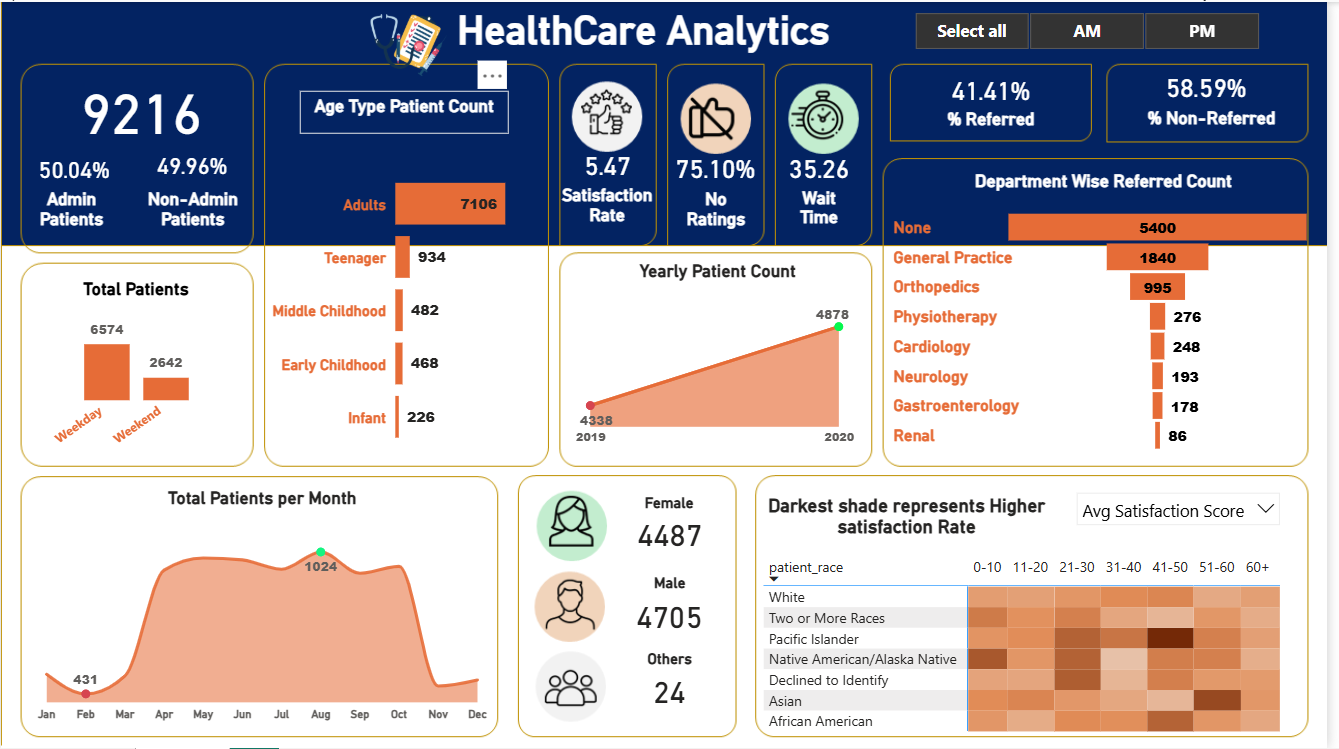

This screenshot's page, from the dashboard's own definition file:
{"tool":"powerbi","page":{"name":"Page 1","canvas":[1280,720],"ordinal":0},"visuals":[{"type":"card","fields":{"Values":["Measures (2).Avg Satisfaction Score"]},"box":[538.1,130.3,94.1,55.5],"z":0},{"type":"card","fields":{"Values":["Measures (2).Average Waiting Time"]},"box":[745.6,137.5,88.1,47.1],"z":1000},{"type":"card","fields":{"Values":["Measures (2).Total Patients"]},"box":[63.9,60.3,143.6,83.2],"z":2000},{"type":"card","fields":{"Values":["Measures (2).% Non Administration"]},"box":[141.2,142.4,86.9,32.6],"z":3000},{"type":"card","fields":{"Values":["Measures (2).% Administration"]},"box":[19.3,146,102.5,32.6],"z":4000},{"type":"card","fields":{"Values":["Measures (2).Male Count"]},"box":[594.8,564.6,101.3,55.5],"z":5000},{"type":"card","fields":{"Values":["Measures (2).Female Count"]},"box":[588.7,491,113.4,44.6],"z":6000},{"type":"card","fields":{"Values":["Measures (2).Others Count"]},"box":[592.4,641.8,106.2,45.8],"z":7000},{"type":"card","fields":{"Values":["Measures (2).% Reffered"]},"box":[902.4,66.4,106.2,37.4],"z":8000},{"type":"card","fields":{"Values":["Measures (2).% Non Reffered"]},"box":[1100.3,61.5,125.5,42.2],"z":9000},{"type":"card","fields":{"Values":["Measures (2).% No Ratings"]},"box":[624.3,136.3,129.1,49.5],"z":10000},{"type":"slicer","fields":{"Values":["Parameter.Parameter"]},"box":[1028.4,463.5,216.4,56.3],"z":11000},{"type":"pivotTable","fields":{"Values":["Measures (2).Avg Satisfaction Score"],"Rows":["Patients.patient_race"],"Columns":["Patients.Age Group"]},"box":[731.1,529.6,539.3,190.6],"z":12000},{"type":"barChart","fields":{"Y":["Measures (2).Total Patients"],"Category":["Patients.Age Type"]},"box":[255.8,141.2,272.7,306.4],"z":13000},{"type":"funnel","fields":{"Category":["Patients.department_referral"],"Y":["Measures (2).Total Patients"]},"box":[856.6,196.6,413.8,242.5],"z":14000},{"type":"slicer","fields":{"Values":["Patients.am-pm"]},"box":[856.6,3.6,381.2,48.3],"z":15000},{"type":"areaChart","title":"Total Patients Visits","fields":{"Category":["Date.Month"],"Y":["Measures (2).Total Patients","Measures (2).format min_max (month)"]},"box":[24.1,499.5,456,202.7],"z":16000},{"type":"lineChart","title":"Total Patients Visits by Year","fields":{"Category":["Date.Year"],"Y":["Measures (2).Total Patients","Measures (2).format min_max (year)"]},"box":[548.9,282.3,279.9,156.8],"z":17000},{"type":"clusteredColumnChart","title":"Total Patients ","fields":{"Y":["Measures (2).Total Patients"],"Category":["Date.WeekType"]},"box":[24.1,294.4,216,153.2],"z":18000},{"type":"card","fields":{"Values":["Measures (2).caption"]},"box":[720.2,463.5,308.2,66],"z":19000},{"type":"textbox","box":[14.5,174.9,107.4,59.1],"z":20000},{"type":"textbox","box":[130.3,174.9,109.8,72.4],"z":21000},{"type":"textbox","box":[60.3,261.8,139.9,41],"z":22000},{"type":"textbox","box":[114.6,463.3,275.1,41],"z":23000},{"type":"textbox","box":[600.8,244.9,177.3,49.5],"z":24000},{"type":"textbox","box":[533.2,171.3,103.8,62.7],"z":25000},{"type":"textbox","box":[288.3,85.7,201.5,41],"z":26000},{"type":"textbox","box":[647.9,174.9,84.5,49.5],"z":27000},{"type":"textbox","box":[750.4,173.7,78.4,60.3],"z":28000},{"type":"textbox","box":[891.6,97.7,127.9,41],"z":29000},{"type":"textbox","box":[1093,96.5,150.8,42.2],"z":30000},{"type":"textbox","box":[925.3,158,277.5,38.6],"z":31000},{"type":"textbox","box":[610.5,469.3,68.8,30.2],"z":32000},{"type":"textbox","box":[617.7,546.5,55.5,36.2],"z":33000},{"type":"textbox","box":[603.2,620.1,84.5,30.2],"z":34000},{"type":"textbox","box":[435.4,0,409.2,54.8],"z":35000},{"type":"image","box":[351.1,0,84.5,83.2],"z":36000}]}

Visuals, with their boxes in screenshot pixels (x1, y1, x2, y2), scaled from the page's 1280x720 canvas onto the 1339x749 screenshot:
card - Measures (2).Avg Satisfaction Score: [x1=563, y1=136, x2=661, y2=193]
card - Measures (2).Average Waiting Time: [x1=780, y1=143, x2=872, y2=192]
card - Measures (2).Total Patients: [x1=67, y1=63, x2=217, y2=149]
card - Measures (2).% Non Administration: [x1=148, y1=148, x2=239, y2=182]
card - Measures (2).% Administration: [x1=20, y1=152, x2=127, y2=186]
card - Measures (2).Male Count: [x1=622, y1=587, x2=728, y2=645]
card - Measures (2).Female Count: [x1=616, y1=511, x2=734, y2=557]
card - Measures (2).Others Count: [x1=620, y1=668, x2=731, y2=715]
card - Measures (2).% Reffered: [x1=944, y1=69, x2=1055, y2=108]
card - Measures (2).% Non Reffered: [x1=1151, y1=64, x2=1282, y2=108]
card - Measures (2).% No Ratings: [x1=653, y1=142, x2=788, y2=193]
slicer - Parameter.Parameter: [x1=1076, y1=482, x2=1302, y2=541]
pivotTable - Measures (2).Avg Satisfaction Score x Patients.patient_race: [x1=765, y1=551, x2=1329, y2=748]
barChart - Measures (2).Total Patients x Patients.Age Type: [x1=268, y1=147, x2=553, y2=466]
funnel - Patients.department_referral x Measures (2).Total Patients: [x1=896, y1=205, x2=1329, y2=457]
slicer - Patients.am-pm: [x1=896, y1=4, x2=1295, y2=54]
"Total Patients Visits" areaChart: [x1=25, y1=520, x2=502, y2=730]
"Total Patients Visits by Year" lineChart: [x1=574, y1=294, x2=867, y2=457]
"Total Patients " clusteredColumnChart: [x1=25, y1=306, x2=251, y2=466]
card - Measures (2).caption: [x1=753, y1=482, x2=1076, y2=551]
textbox: [x1=15, y1=182, x2=128, y2=243]
textbox: [x1=136, y1=182, x2=251, y2=257]
textbox: [x1=63, y1=272, x2=209, y2=315]
textbox: [x1=120, y1=482, x2=408, y2=525]
textbox: [x1=628, y1=255, x2=814, y2=306]
textbox: [x1=558, y1=178, x2=666, y2=243]
textbox: [x1=302, y1=89, x2=512, y2=132]
textbox: [x1=678, y1=182, x2=766, y2=233]
textbox: [x1=785, y1=181, x2=867, y2=243]
textbox: [x1=933, y1=102, x2=1066, y2=144]
textbox: [x1=1143, y1=100, x2=1301, y2=144]
textbox: [x1=968, y1=164, x2=1258, y2=205]
textbox: [x1=639, y1=488, x2=711, y2=520]
textbox: [x1=646, y1=569, x2=704, y2=606]
textbox: [x1=631, y1=645, x2=719, y2=676]
textbox: [x1=455, y1=0, x2=884, y2=57]
image: [x1=367, y1=0, x2=456, y2=87]
